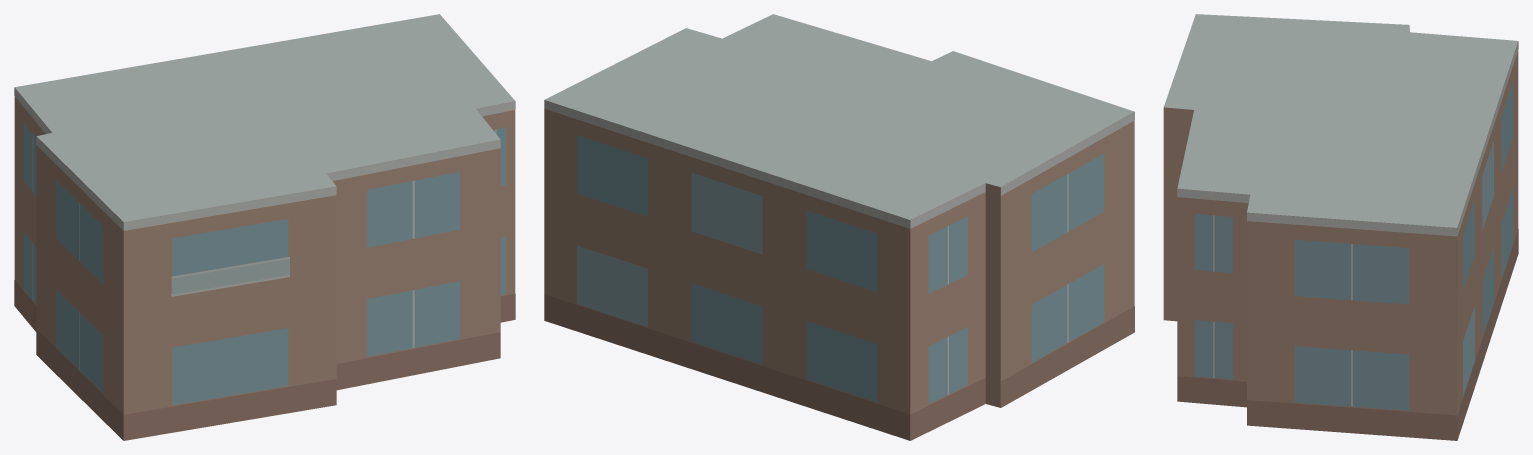
Rendered from survey-upis-32796899.glb.
The picture shows the model from 3 angles, left to right: view 1: azimuth 30°, elevation 25°; view 2: azimuth 150°, elevation 25°; view 3: azimuth 270°, elevation 25°; orthographic projection. The views are drawn at different scales.
Visible parts, largest first — view 1: survey-upis-32796899.tmp; view 2: survey-upis-32796899.tmp; view 3: survey-upis-32796899.tmp.
Boxes of the visible parts, x1,y1,x2,y2 form: survey-upis-32796899.tmp: (14,14,515,440); survey-upis-32796899.tmp: (544,14,1134,440); survey-upis-32796899.tmp: (1163,14,1518,440).
Bounding box in the file's own units: 13.16 × 6.1 × 9.23.
